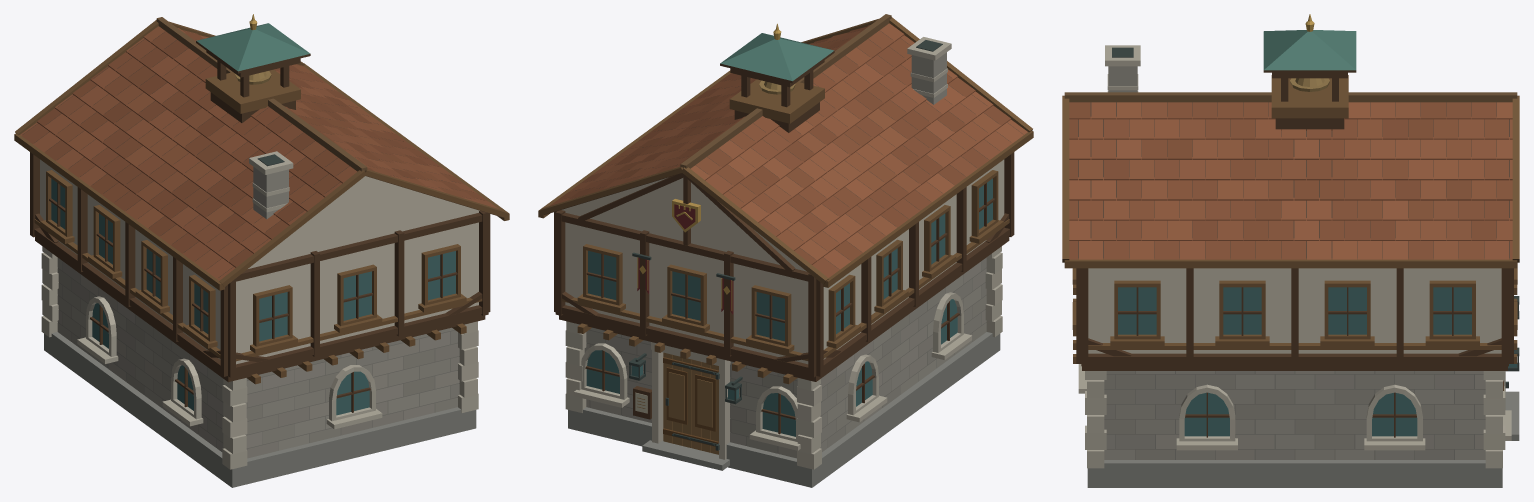
The model's file is VillageHall.glb.
3 renders of one model, left to right at view 1: azimuth 30°, elevation 25°; view 2: azimuth 150°, elevation 25°; view 3: azimuth 270°, elevation 25°, orthographic. The views are drawn at different scales.
Visible parts, largest first — view 1: VillageHall, VillageHallGlass; view 2: VillageHall, VillageHallGlass, VillageHallDoor; view 3: VillageHall, VillageHallGlass.
Part boxes in pixels (bbox=[...]): VillageHall: bbox=[14, 14, 509, 487]; VillageHallGlass: bbox=[51, 178, 455, 415]; VillageHall: bbox=[538, 14, 1033, 487]; VillageHallGlass: bbox=[586, 178, 992, 436]; VillageHallDoor: bbox=[663, 352, 719, 454]; VillageHall: bbox=[1062, 14, 1519, 487]; VillageHallGlass: bbox=[1118, 287, 1516, 436].
Bounding box in the file's own units: 8.15 × 9.94 × 10.1.
